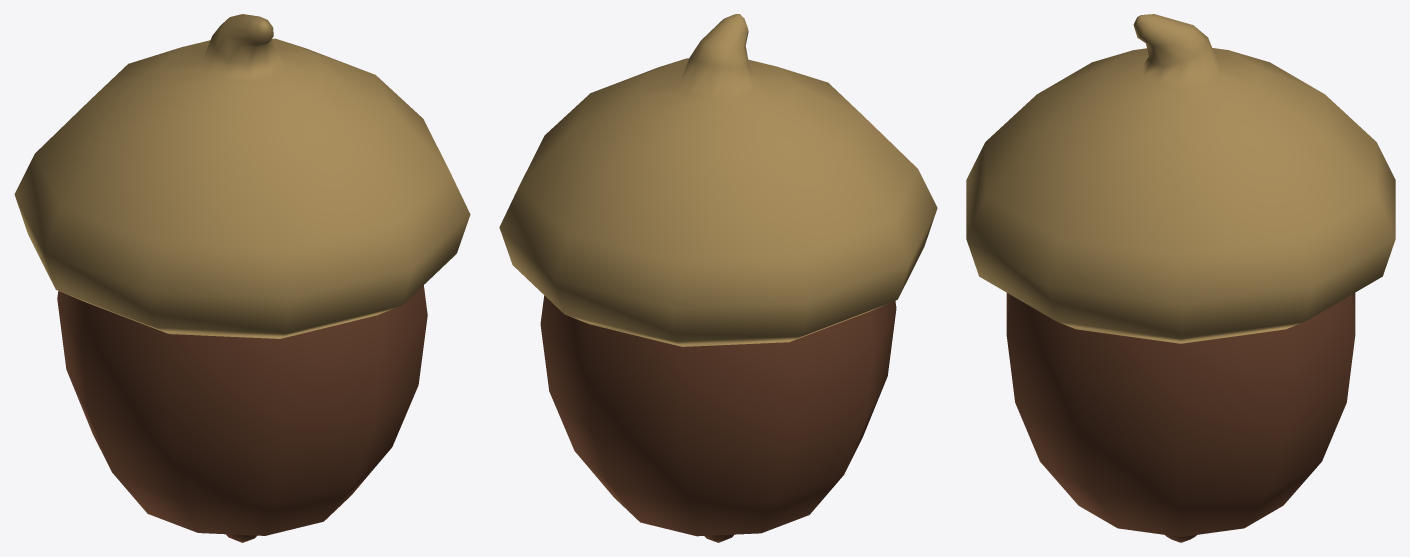
File: acorn blend.fbx
3 renders of one model, left to right at view 1: azimuth 30°, elevation 25°; view 2: azimuth 150°, elevation 25°; view 3: azimuth 270°, elevation 25°, orthographic. The views are drawn at different scales.
Parts seen in each view (by area): view 1: polySurface2, polySurface1; view 2: polySurface2, polySurface1; view 3: polySurface2, polySurface1.
Part boxes in pixels (x1=…): polySurface2: x1=14, y1=14, x2=470, y2=338; polySurface1: x1=57, y1=285, x2=427, y2=542; polySurface2: x1=499, y1=14, x2=937, y2=346; polySurface1: x1=540, y1=295, x2=896, y2=542; polySurface2: x1=966, y1=14, x2=1395, y2=343; polySurface1: x1=1006, y1=293, x2=1355, y2=542.
Bounding box in the file's own units: 9.99 × 12.88 × 9.5.
